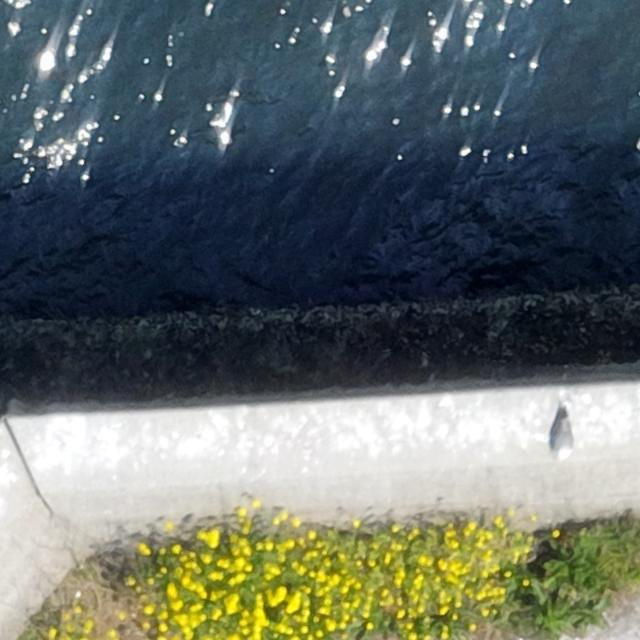umineko: (543, 400, 581, 463)
